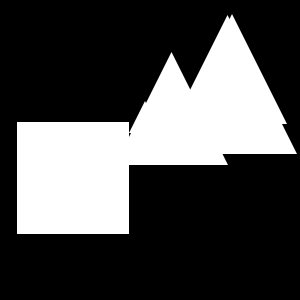circle: (17, 122, 129, 234)
triangle: (158, 15, 297, 154), (115, 52, 228, 165), (177, 14, 287, 124), (129, 101, 161, 133)
